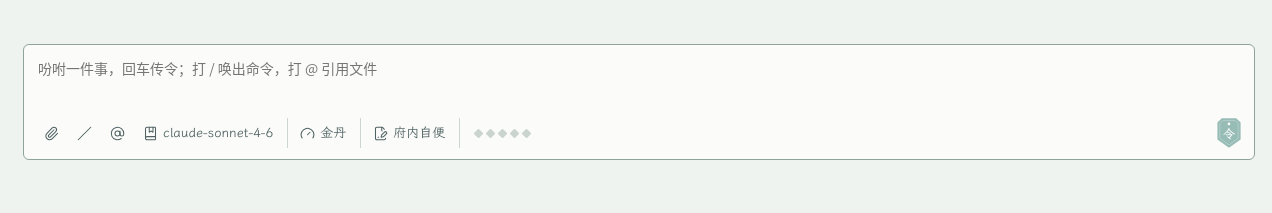
Composer component (P1-15 & P2-12) › autocompletes @file mentions from workspace search and attaches the selected file
Type "请检查 @App" into the text box at (639, 82), box [36,55,1242,109]
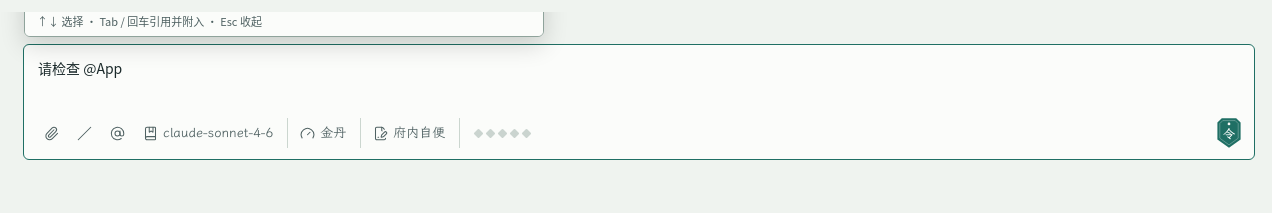
Press Enter
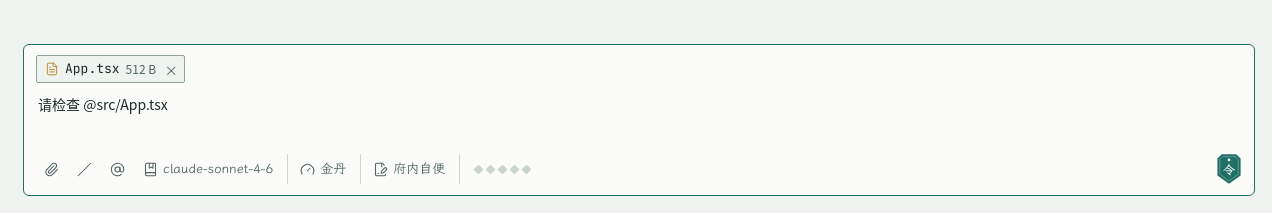
Result: the text "App.tsx" is shown at [65,58,120,80]
